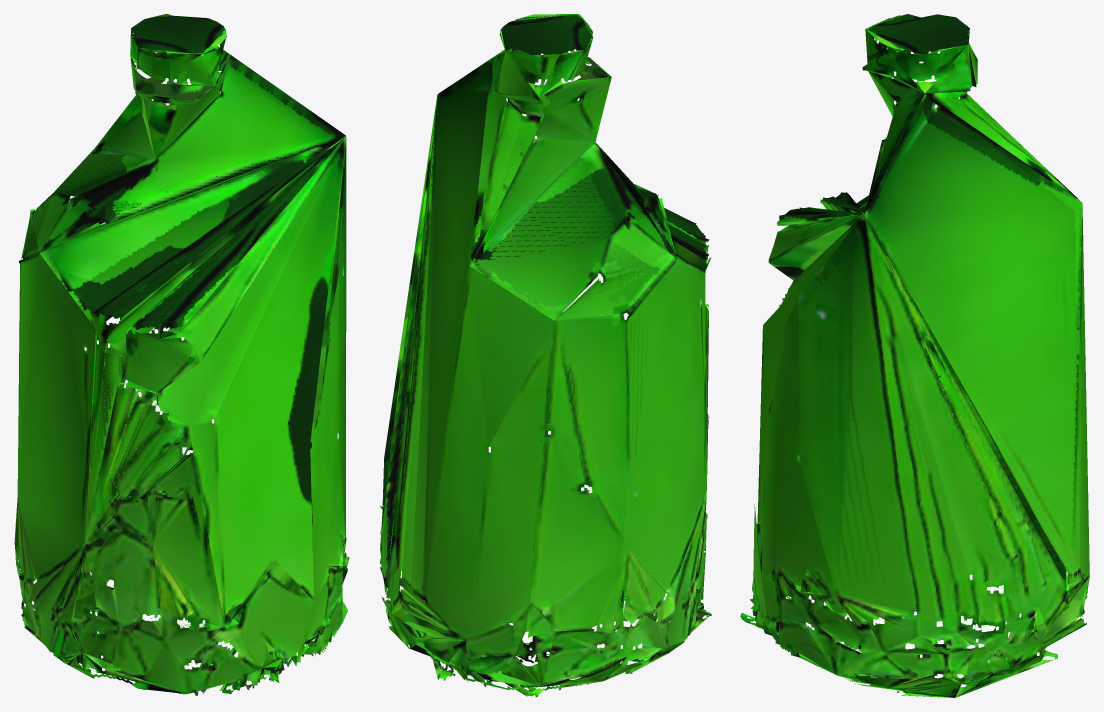
File: HerbExtract.glb
3 views of the same model, side by side, from view 1: azimuth 30°, elevation 25°; view 2: azimuth 150°, elevation 25°; view 3: azimuth 270°, elevation 25° (orthographic).
Visible parts, largest first — view 1: temp_mesh.ply; view 2: temp_mesh.ply; view 3: temp_mesh.ply.
Boxes of the visible parts, x1=… form: temp_mesh.ply: x1=14, y1=14, x2=349, y2=695; temp_mesh.ply: x1=380, y1=14, x2=711, y2=696; temp_mesh.ply: x1=740, y1=14, x2=1089, y2=697.
Size of the model in its own units: 0.0674 by 0.14 by 0.072.
Materials: 1 (1 with a texture image).
